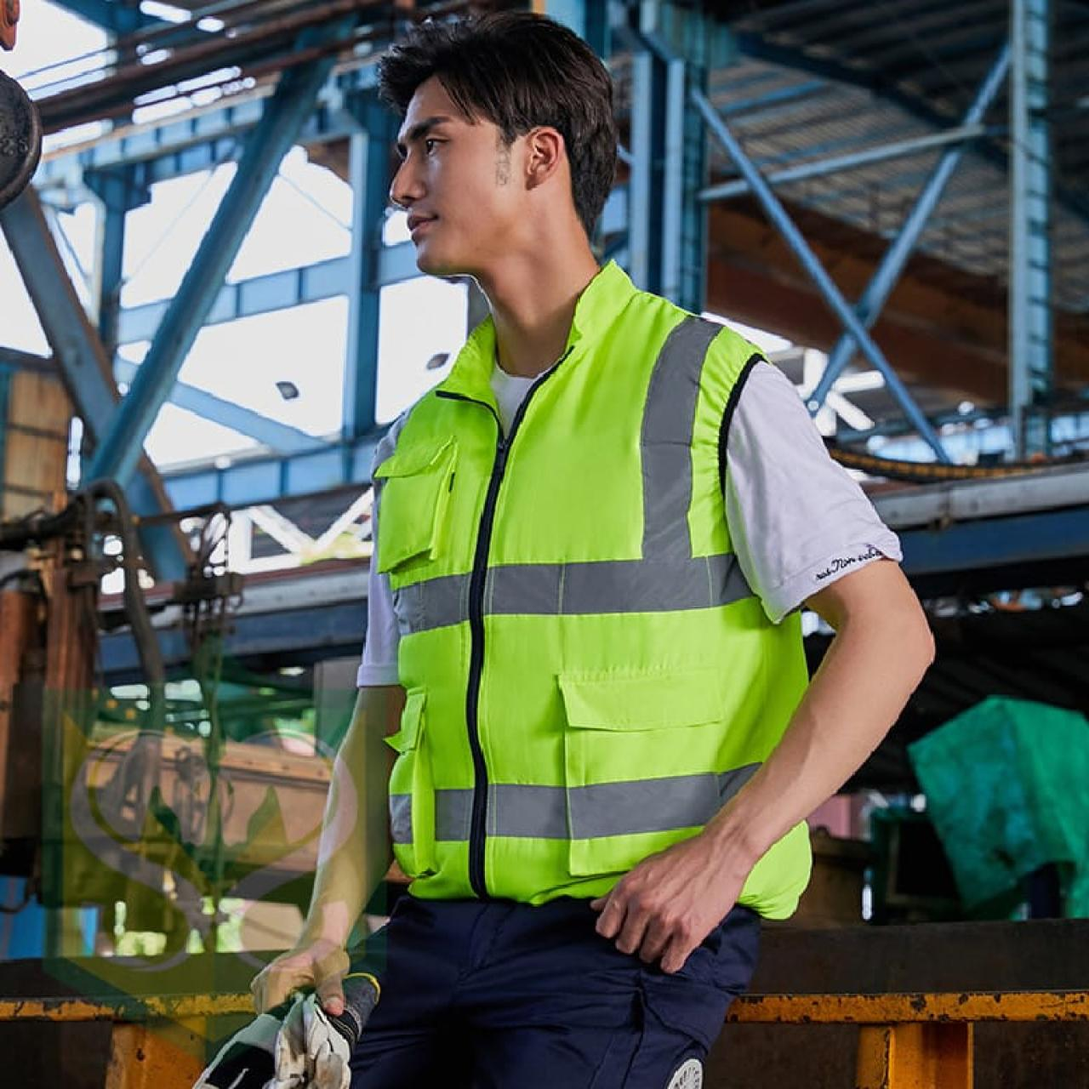Person: (212, 0, 978, 1089)
Safety_Vest: (338, 271, 867, 935)
